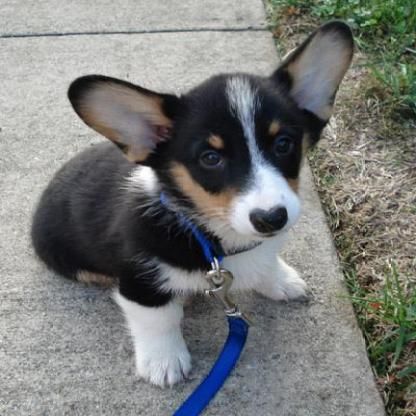Pembroke: (25, 13, 360, 387)
